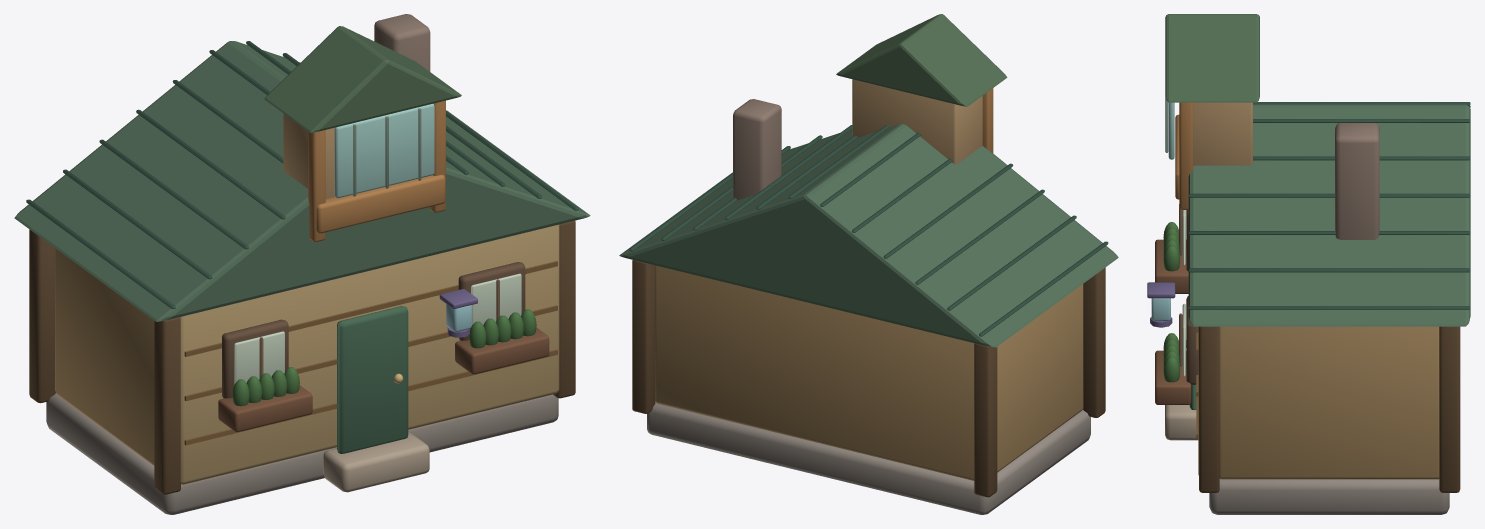
File: res_hazel2.glb
3 views of the same model, side by side, from view 1: azimuth 30°, elevation 25°; view 2: azimuth 150°, elevation 25°; view 3: azimuth 270°, elevation 25° (orthographic). The views are drawn at different scales.
Visible parts, largest first — view 1: base, roof, crystal, walls, frame; view 2: base, roof, walls, frame; view 3: base, roof, walls, crystal, frame.
Boxes of the visible parts, <box> form: base: <box>14,14,590,514</box>; roof: <box>264,26,461,132</box>; crystal: <box>334,103,477,337</box>; walls: <box>283,113,445,233</box>; frame: <box>308,100,445,241</box>; base: <box>619,99,1118,514</box>; roof: <box>836,14,1007,106</box>; walls: <box>852,79,982,164</box>; frame: <box>982,88,993,152</box>; base: <box>1155,102,1470,514</box>; roof: <box>1165,14,1259,102</box>; walls: <box>1175,102,1252,199</box>; crystal: <box>1147,97,1175,327</box>; frame: <box>1179,102,1193,209</box>.
Bounding box in the file's own units: 3.47 × 3.26 × 2.32.
